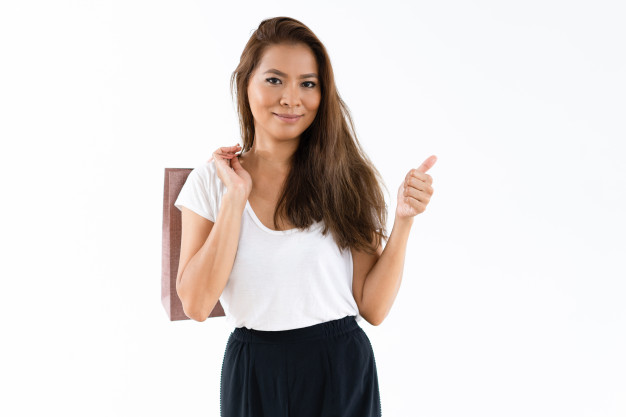thumbsup: (401, 154, 437, 214)
